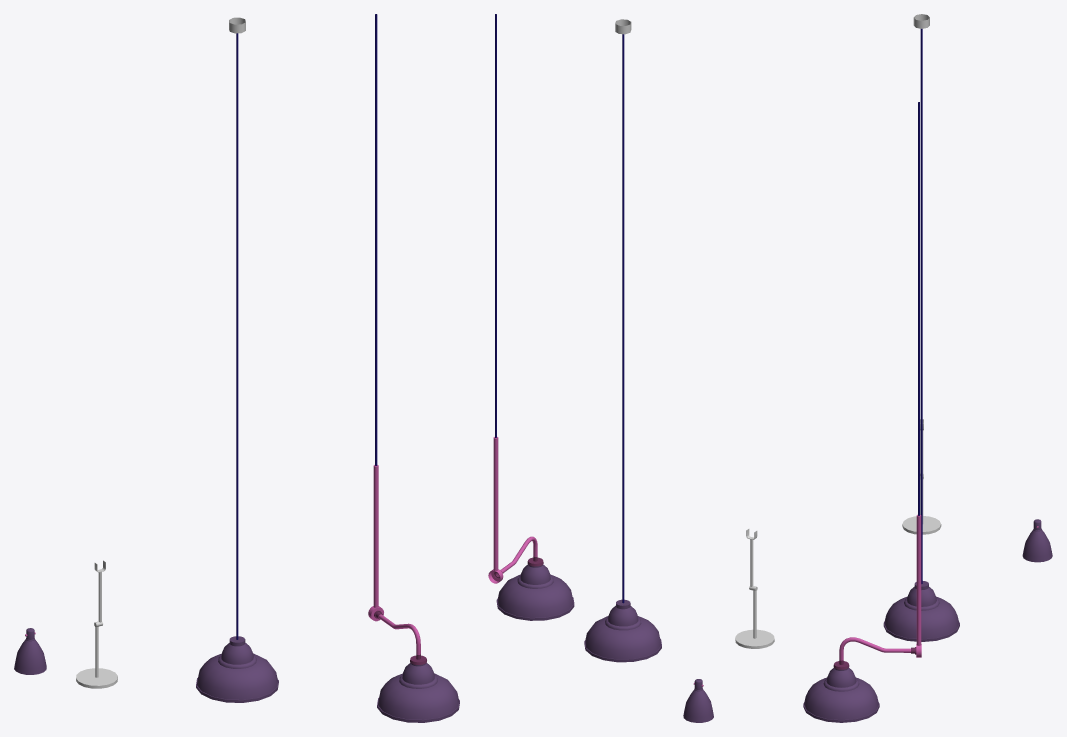
Rendered from lights.fbx.
3 views of the same model, side by side, from view 1: azimuth 30°, elevation 25°; view 2: azimuth 150°, elevation 25°; view 3: azimuth 270°, elevation 25° (orthographic). The views are drawn at different scales.
Visible parts, largest first — view 1: industrial_light_wall, industrial_light_ceiling, light_desk_lamp_shade, light_desk_lamp_base; view 2: industrial_light_wall, industrial_light_ceiling, light_desk_lamp_shade, light_desk_lamp_base; view 3: industrial_light_wall, industrial_light_ceiling, light_desk_lamp_shade, light_desk_lamp_base.
Boxes of the visible parts, x1=… form: industrial_light_wall: x1=368, y1=14, x2=459, y2=722; industrial_light_ceiling: x1=196, y1=33, x2=278, y2=702; light_desk_lamp_shade: x1=14, y1=628, x2=46, y2=674; light_desk_lamp_base: x1=76, y1=621, x2=117, y2=688; industrial_light_wall: x1=488, y1=14, x2=574, y2=620; industrial_light_ceiling: x1=584, y1=34, x2=661, y2=662; light_desk_lamp_shade: x1=683, y1=679, x2=713, y2=722; light_desk_lamp_base: x1=735, y1=586, x2=774, y2=648; industrial_light_wall: x1=803, y1=102, x2=921, y2=722; industrial_light_ceiling: x1=883, y1=29, x2=959, y2=641; light_desk_lamp_shade: x1=1022, y1=519, x2=1052, y2=562; light_desk_lamp_base: x1=902, y1=474, x2=941, y2=534.
Size of the model in its own units: 1.41 by 2.79 by 0.9982.
